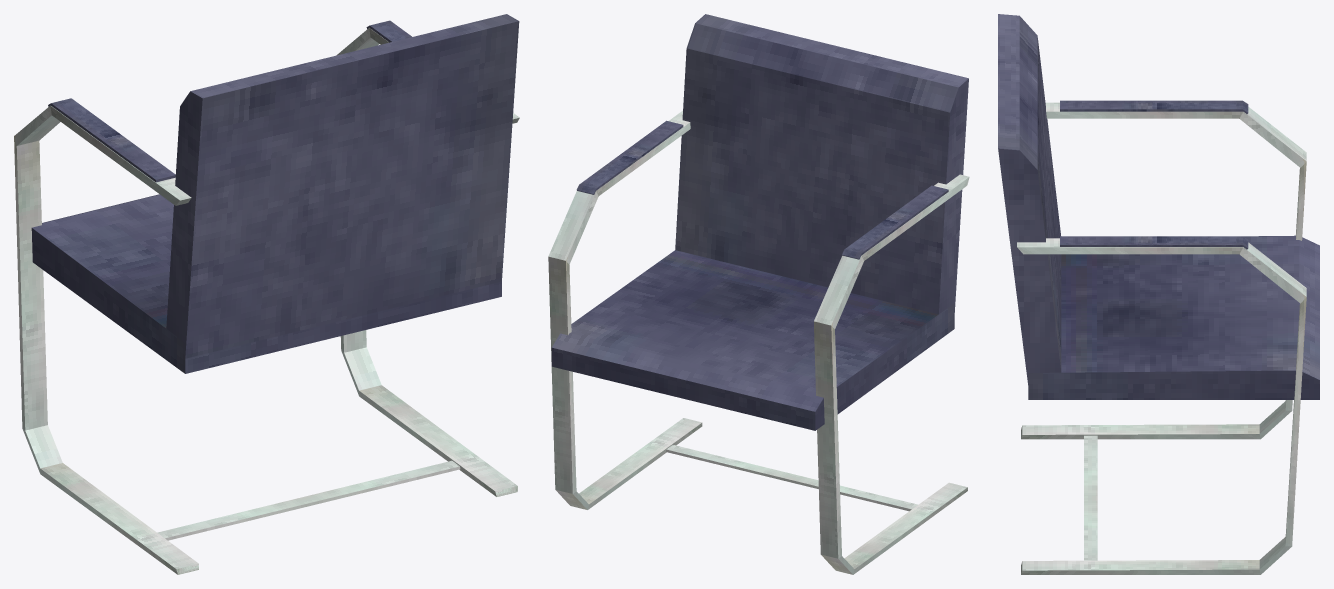
The model's file is conference_chair_blue.glb.
3 views of the same model, side by side, from view 1: azimuth 30°, elevation 25°; view 2: azimuth 150°, elevation 25°; view 3: azimuth 270°, elevation 25° (orthographic). The views are drawn at different scales.
Visible parts, largest first — view 1: conference_chair_blue; view 2: conference_chair_blue; view 3: conference_chair_blue.
Boxes of the visible parts, x1,y1,x2,y2 form: conference_chair_blue: (14,14,519,574); conference_chair_blue: (548,14,969,574); conference_chair_blue: (998,14,1319,574).
Bounding box in the file's own units: 0.7495 × 1.01 × 0.7018.
Materials: 1 (1 with a texture image).
